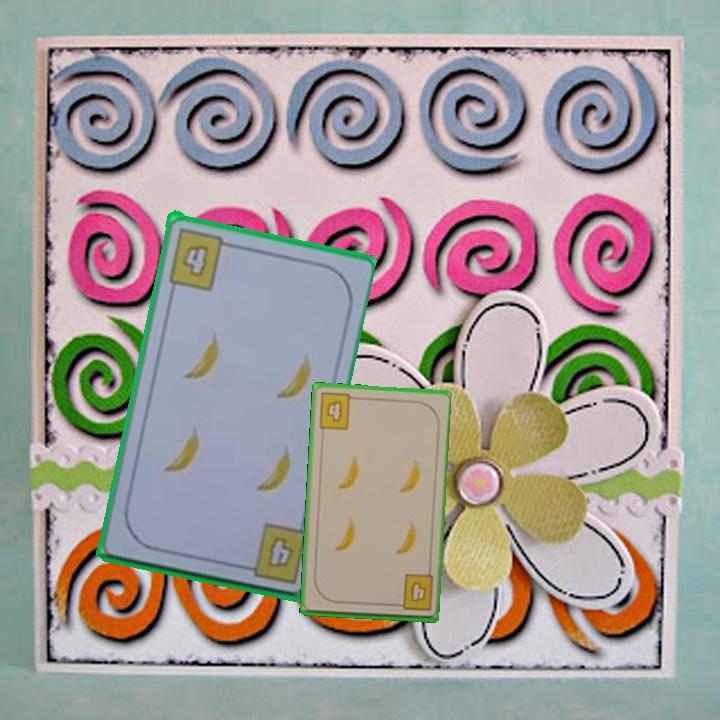4b: (164, 224, 236, 293), (315, 389, 360, 433), (390, 571, 436, 614), (263, 532, 296, 571)
